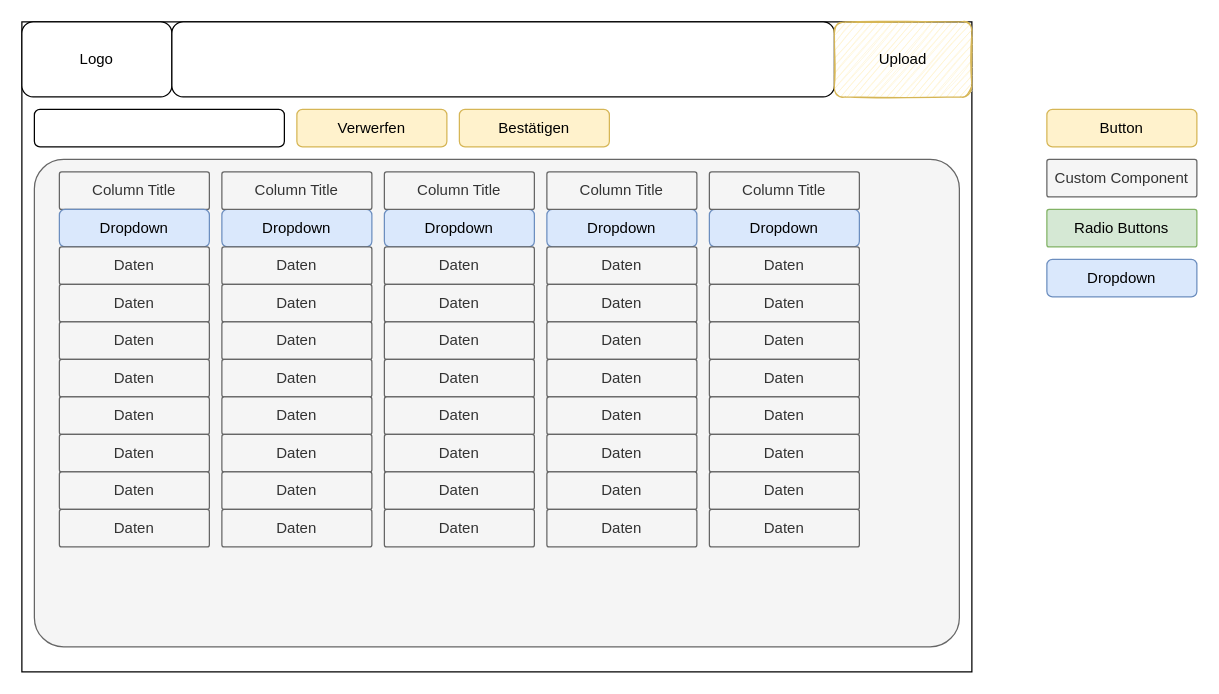
Image size: 1219x694. Some labels were removed from this diagram. The centre of each missing label's shape, as x and y in pixels:
Filename (Textbox mb zum Umbennen): (x=158, y=127)
Navigation: (x=502, y=59)
